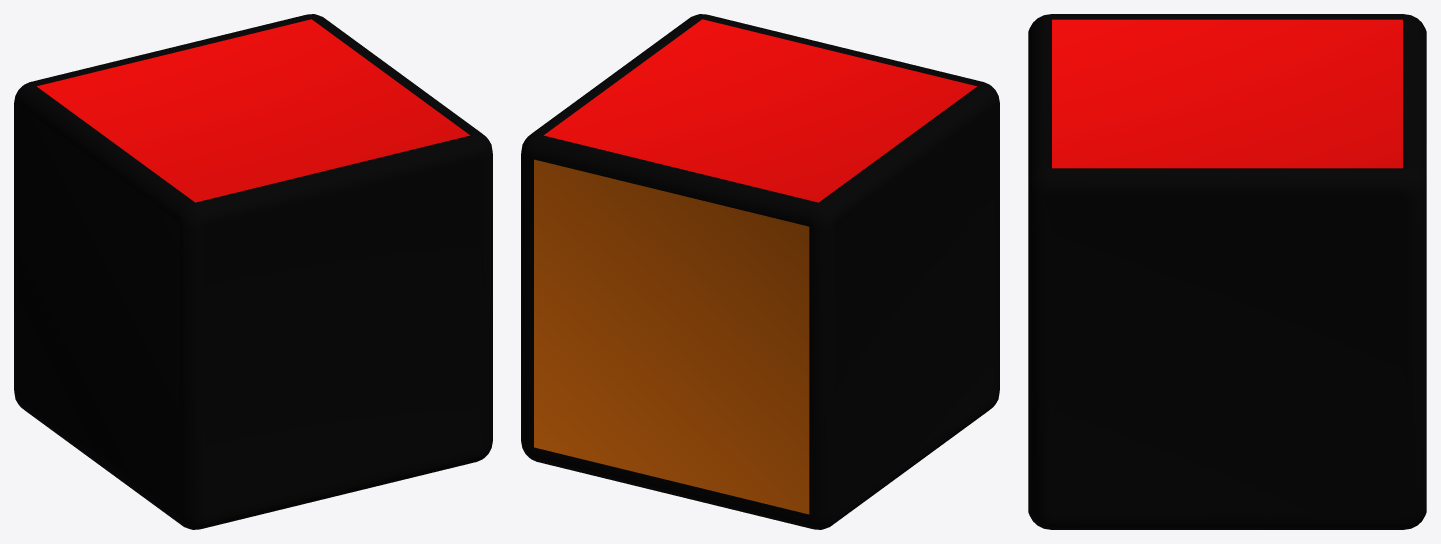
3 renders of one model, left to right at view 1: azimuth 30°, elevation 25°; view 2: azimuth 150°, elevation 25°; view 3: azimuth 270°, elevation 25°, orthographic. The views are drawn at different scales.
Visible parts, largest first — view 1: Cube.009; view 2: Cube.009; view 3: Cube.009.
Boxes of the visible parts, <box> form: Cube.009: <box>14,14,492,529</box>; Cube.009: <box>521,14,999,529</box>; Cube.009: <box>1028,14,1426,529</box>.
Bounding box in the file's own units: 1.99 × 1.99 × 1.99.
